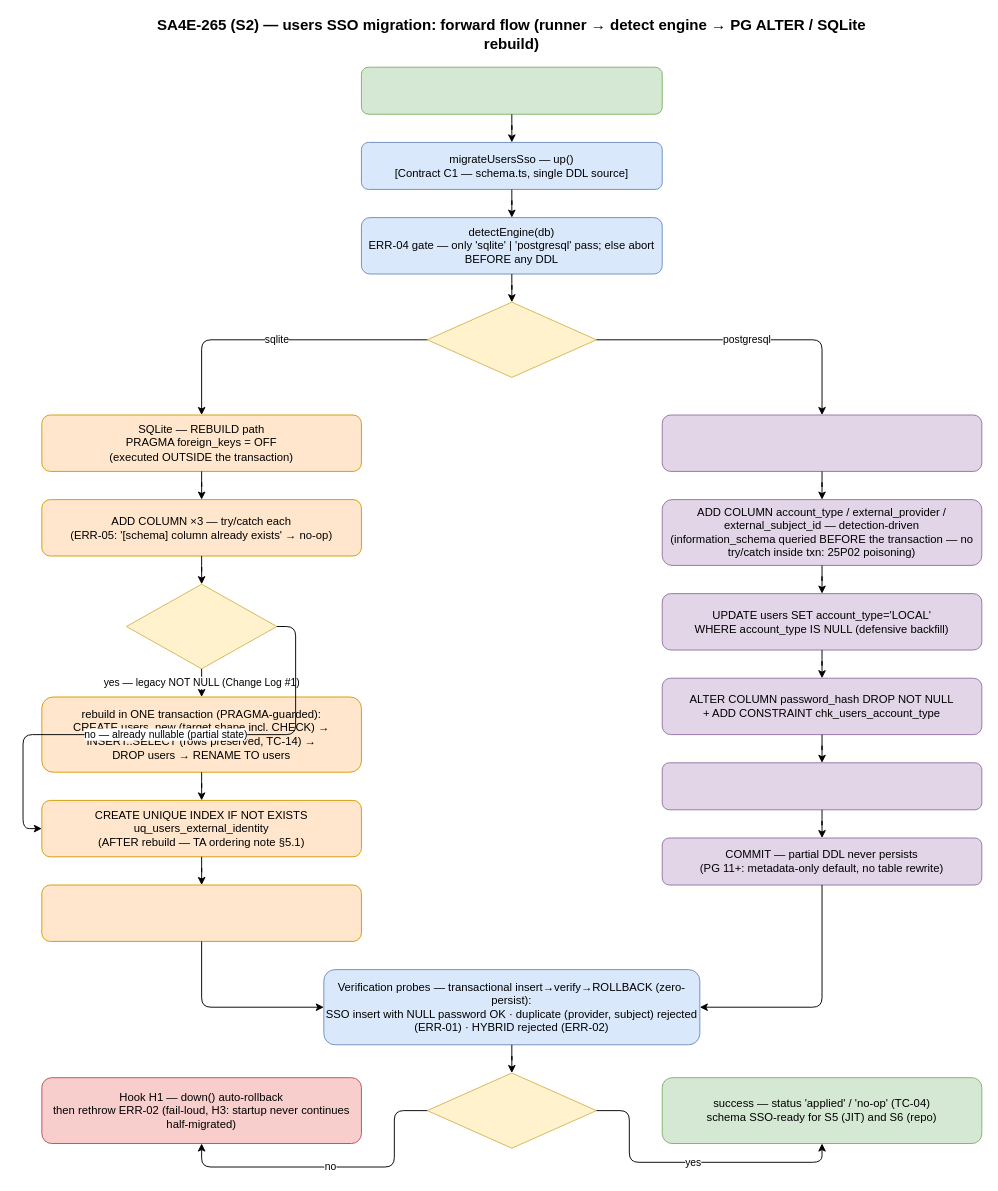
Some shapes in this 998 by 1191 pixel diagram are drawn without their labels. The centre of each missing label's shape, as x and y in pixels:
CREATE UNIQUE INDEX IF NOT EXISTS uq_users_external_identity: pixel 821 786
engine = ?: pixel 511 339
password_hash NOT NULL (legacy DB)?: pixel 201 626
PostgreSQL — ALTER path open transactionAsync (all-or-nothing, UC-02 AF-3): pixel 821 442
probes pass?: pixel 511 1110
service startup → initSchema(db): pixel 511 90
UPDATE backfill (WHERE account_type IS NULL) then PRAGMA foreign_keys = ON: pixel 201 912
